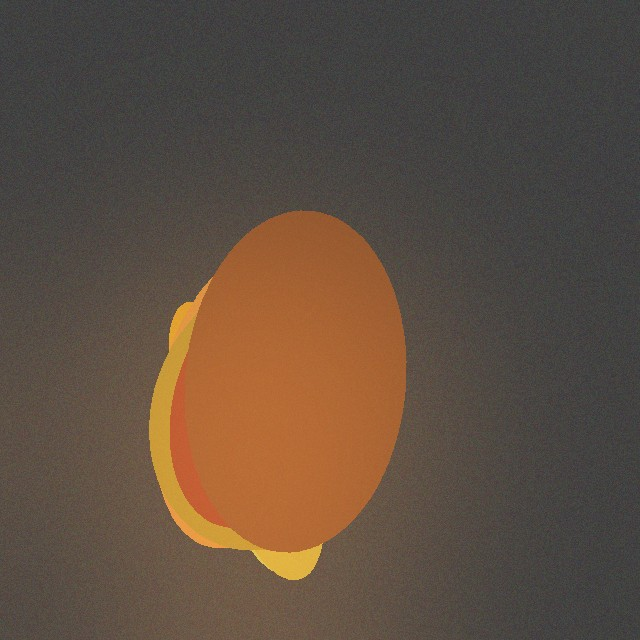fire: (182, 305, 320, 573)
